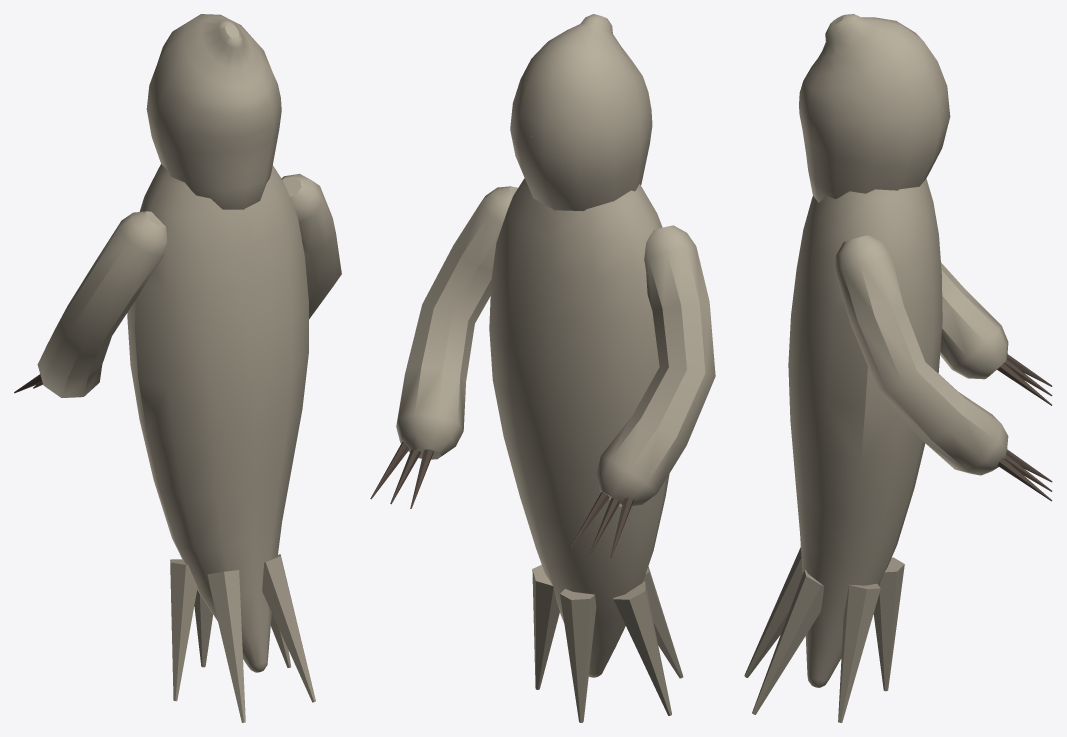
File: sand_wraith.gltf
The picture shows the model from 3 angles, left to right: view 1: azimuth 30°, elevation 25°; view 2: azimuth 150°, elevation 25°; view 3: azimuth 270°, elevation 25°; orthographic projection. The views are drawn at different scales.
Parts seen in each view (by area): view 1: Pulse, ArmL, ArmR; view 2: Pulse, ArmL, ArmR; view 3: Pulse, ArmR, ArmL.
Boxes of the visible parts, bbox=[...] form: Pulse: bbox=[127, 14, 315, 722]; ArmL: bbox=[14, 211, 167, 397]; ArmR: bbox=[281, 173, 341, 319]; Pulse: bbox=[489, 14, 683, 722]; ArmL: bbox=[570, 225, 715, 557]; ArmR: bbox=[370, 186, 517, 508]; Pulse: bbox=[744, 14, 950, 722]; ArmR: bbox=[834, 235, 1052, 501]; ArmL: bbox=[940, 262, 1052, 405].
Size of the model in its own units: 0.8665 by 1.99 by 0.8172.
